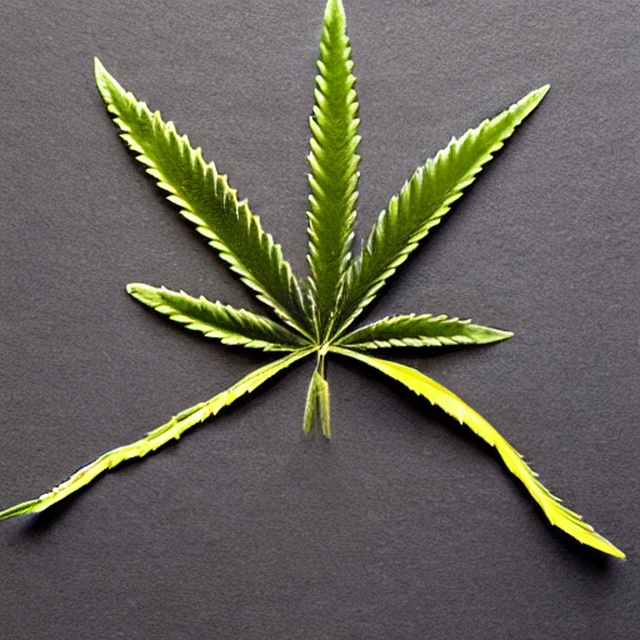Marijuana Leaf: (0, 0, 626, 562)
